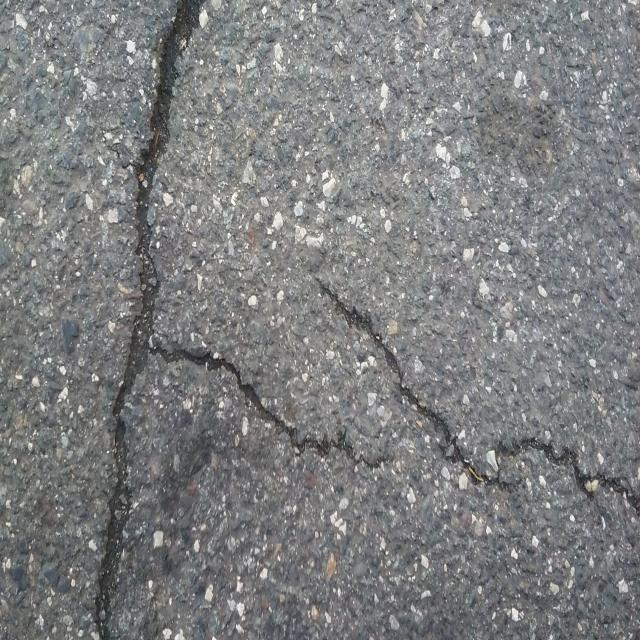Crack: (90, 0, 395, 640), (315, 280, 640, 518)
